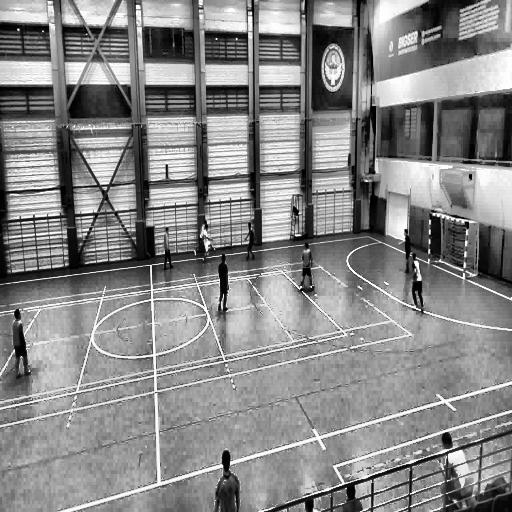ball: (205, 250, 212, 259)
player: (440, 433, 474, 510), (10, 308, 31, 378), (410, 251, 424, 311), (299, 241, 314, 292), (198, 221, 215, 262), (218, 252, 229, 312), (163, 228, 174, 270), (244, 222, 255, 260), (403, 228, 411, 274)
